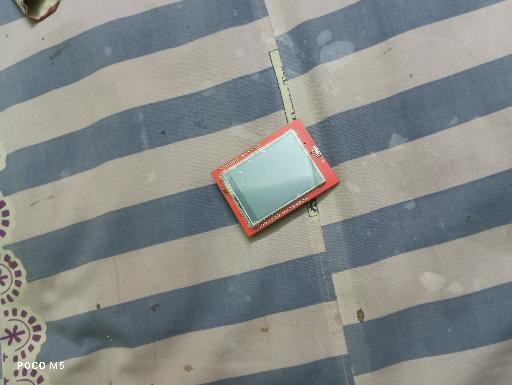Display: (209, 117, 340, 240)
